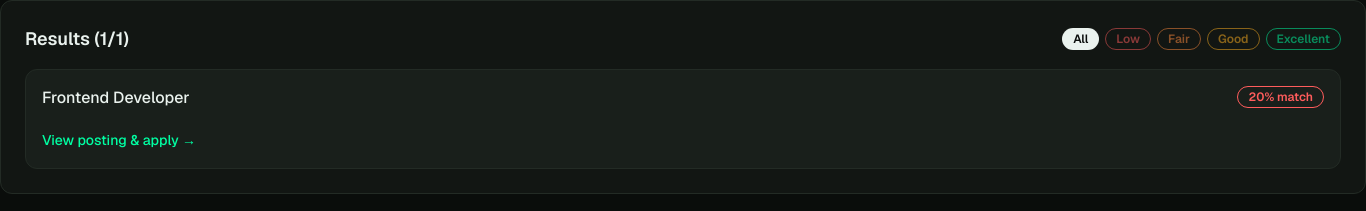
Test: ResultsPanel › shows a message when the filter matches nothing
Click the button "Excellent" at (1303, 39), box [1266,28,1341,50]
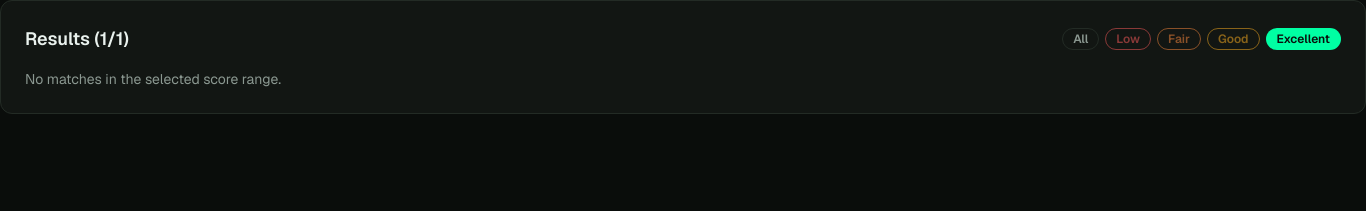
Expected: the text "No matches in the selected score range." is shown, [25,70,281,88]
